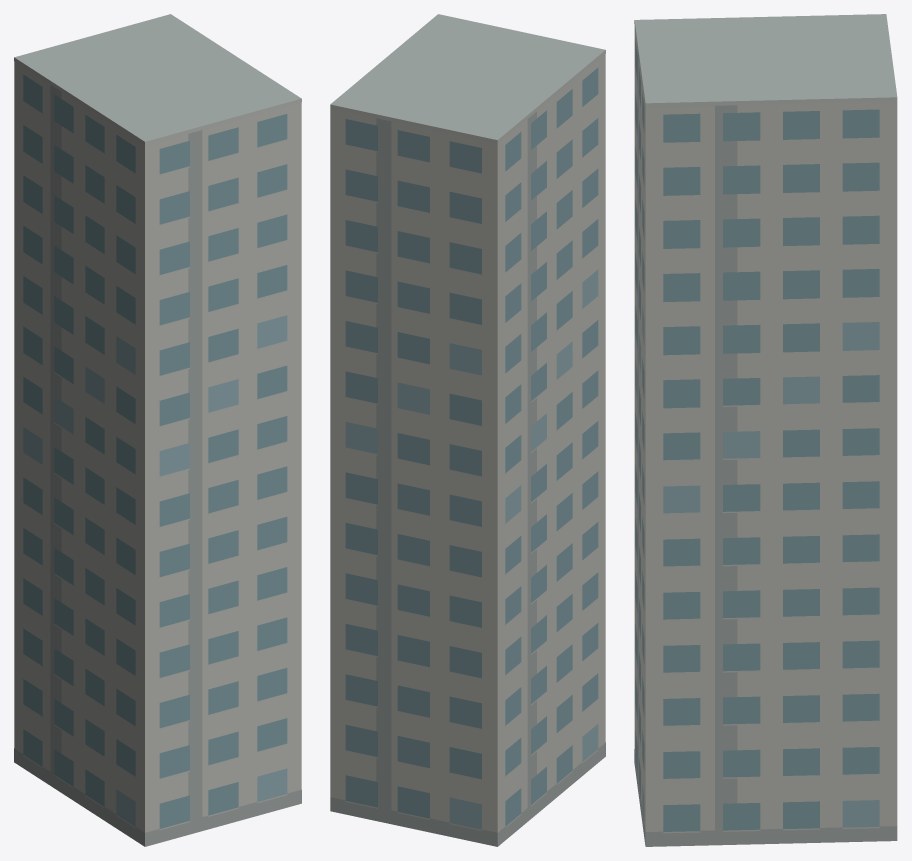
The model's file is residential-2e26208a-804d-49ad-9b60-ff2ea7c557fc.glb.
3 renders of one model, left to right at view 1: azimuth 30°, elevation 25°; view 2: azimuth 150°, elevation 25°; view 3: azimuth 270°, elevation 25°, orthographic. The views are drawn at different scales.
Visible parts, largest first — view 1: residential-2e26208a-804d-49ad-9b60-ff2ea7c557fc.tmp; view 2: residential-2e26208a-804d-49ad-9b60-ff2ea7c557fc.tmp; view 3: residential-2e26208a-804d-49ad-9b60-ff2ea7c557fc.tmp.
Boxes of the visible parts, x1=… form: residential-2e26208a-804d-49ad-9b60-ff2ea7c557fc.tmp: x1=14, y1=14, x2=301, y2=846; residential-2e26208a-804d-49ad-9b60-ff2ea7c557fc.tmp: x1=330, y1=14, x2=605, y2=846; residential-2e26208a-804d-49ad-9b60-ff2ea7c557fc.tmp: x1=634, y1=14, x2=897, y2=846.
Size of the model in its own units: 11.34 by 44 by 14.11.
